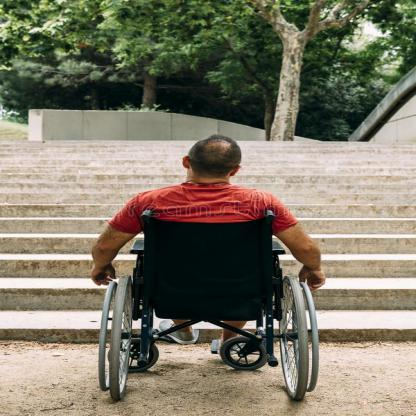wheelchair: (93, 136, 332, 407)
